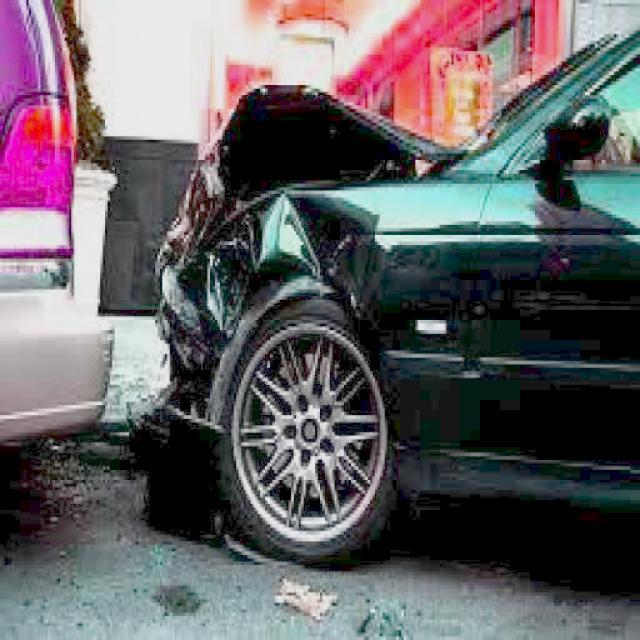car damage: (154, 82, 465, 434)
